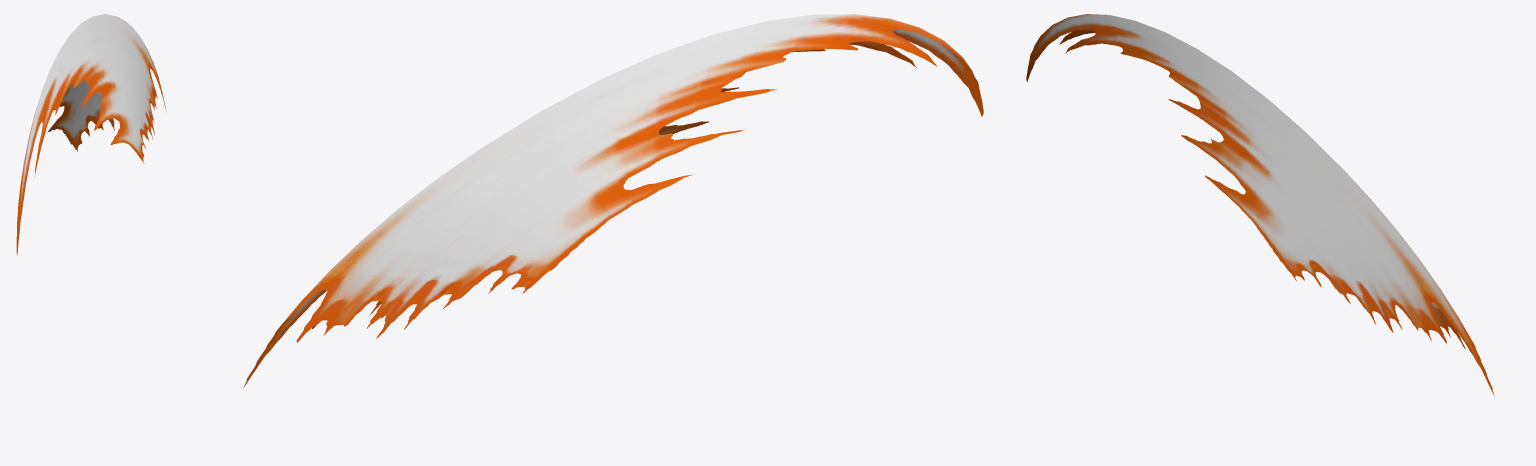
Rendered from fx_cookie0113_skill01.fbx.
3 views of the same model, side by side, from view 1: azimuth 30°, elevation 25°; view 2: azimuth 150°, elevation 25°; view 3: azimuth 270°, elevation 25° (orthographic). The views are drawn at different scales.
Visible parts, largest first — view 1: L_scratch2; view 2: L_scratch2; view 3: L_scratch2.
Boxes of the visible parts, bbox=[...] form: L_scratch2: bbox=[16, 14, 166, 255]; L_scratch2: bbox=[243, 14, 983, 387]; L_scratch2: bbox=[1026, 14, 1494, 396].
Size of the model in its own units: 531 by 455 by 592.
